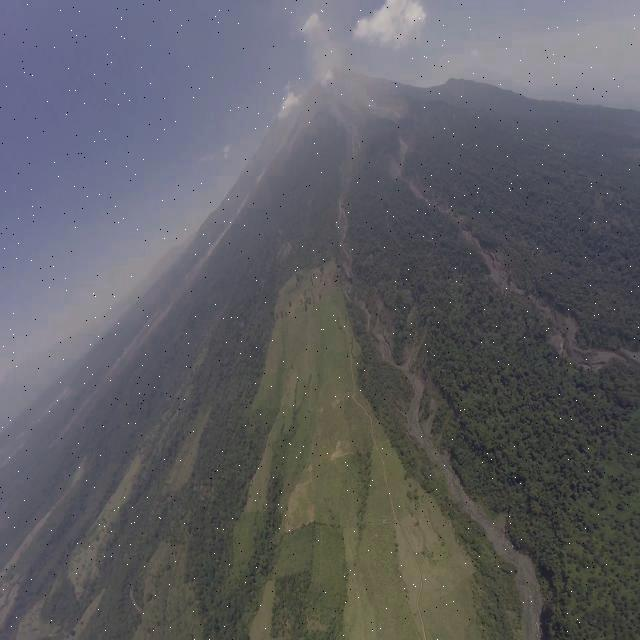Plume: (301, 10, 325, 43), (277, 88, 300, 121)
